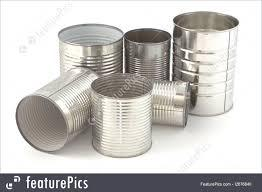Tin: (3, 5, 252, 165)
